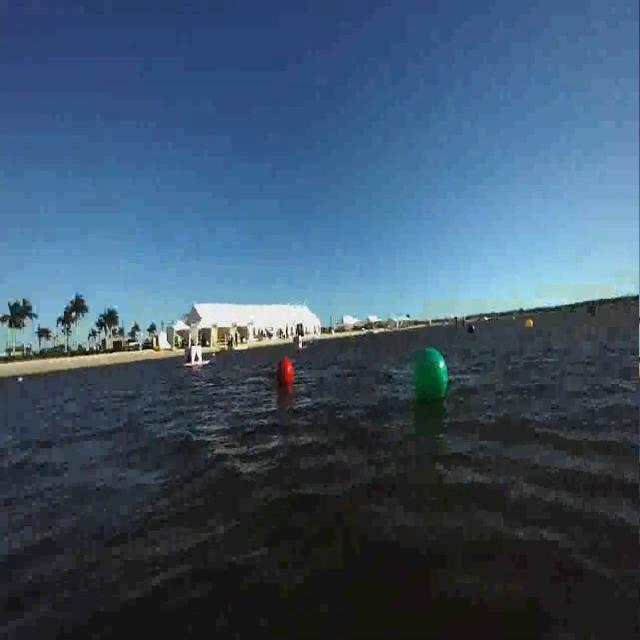green-buoy: (413, 346, 450, 405)
red-buoy: (278, 357, 294, 386)
yellow-buoy: (526, 317, 534, 330)
